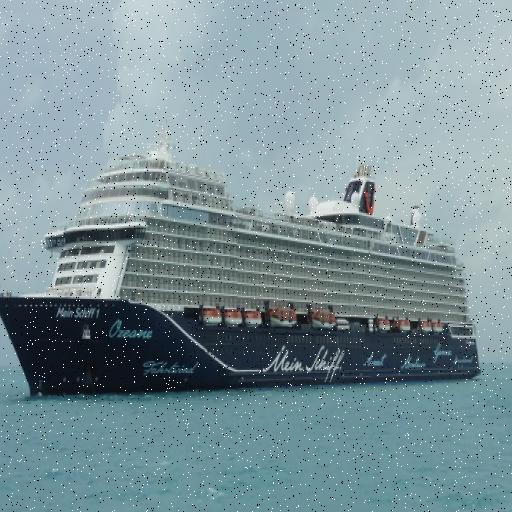cruises: (1, 139, 495, 404)
